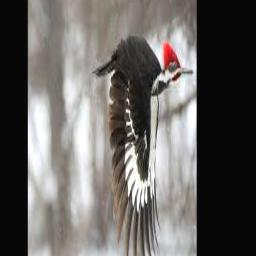Woodpecker: (93, 37, 194, 256)
